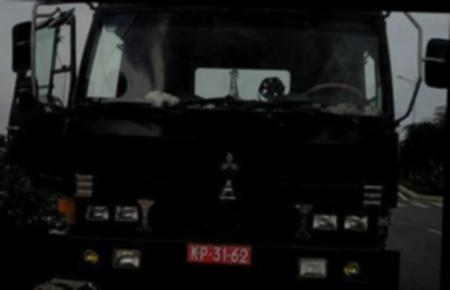License_Plate: (183, 242, 252, 268)
